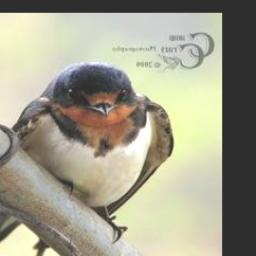Swallow: (0, 61, 175, 256)
